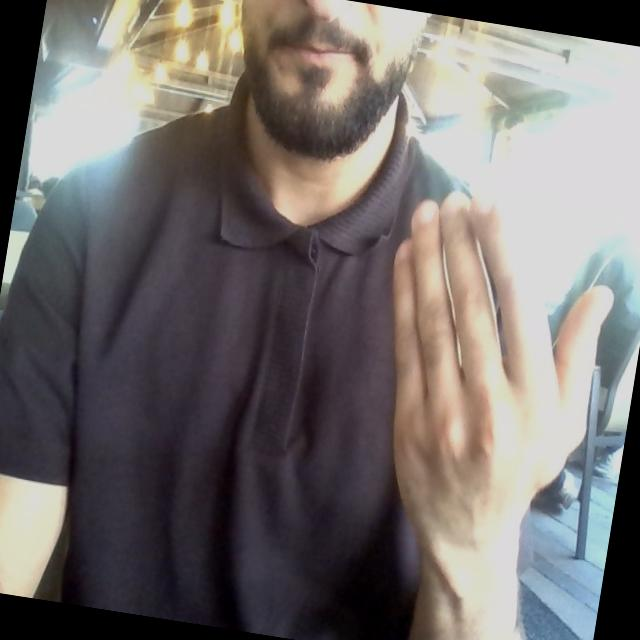Hand: (393, 194, 612, 569)
